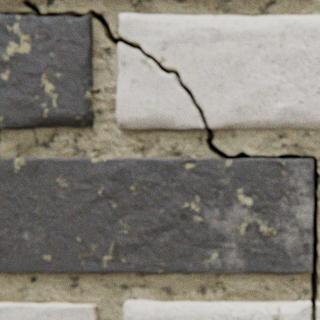brick: (0, 158, 313, 273), (0, 302, 98, 319)
broken_brick: (119, 14, 319, 129), (0, 15, 94, 129), (117, 43, 204, 128), (124, 299, 311, 319), (316, 301, 319, 319)
crack: (0, 0, 319, 319), (0, 129, 2, 144)
